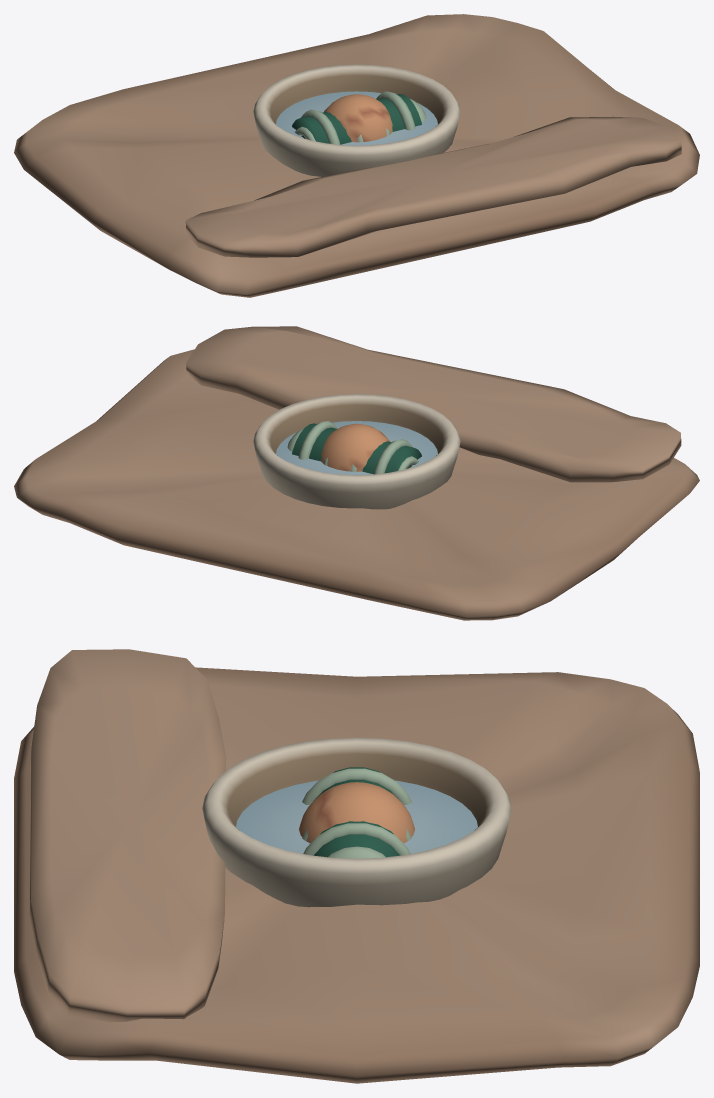
Rendered from care_props.glb.
3 renders of one model, top to bottom at view 1: azimuth 30°, elevation 25°; view 2: azimuth 150°, elevation 25°; view 3: azimuth 270°, elevation 25°, orthographic. The views are drawn at different scales.
Visible parts, largest first — view 1: blanket, bowl, toy_rolling, ball, water; view 2: blanket, bowl, toy_rolling, ball, water; view 3: blanket, bowl, water, toy_rolling, ball.
Boxes of the visible parts, left/top/right/bottom form: blanket: left=14, top=14, right=699, bottom=297; bowl: left=253, top=64, right=460, bottom=176; toy_rolling: left=292, top=91, right=426, bottom=144; ball: left=324, top=94, right=392, bottom=142; water: left=276, top=91, right=437, bottom=145; blanket: left=14, top=326, right=699, bottom=620; bowl: left=253, top=394, right=460, bottom=509; toy_rolling: left=287, top=421, right=421, bottom=474; ball: left=321, top=423, right=390, bottom=471; water: left=276, top=421, right=437, bottom=474; blanket: left=14, top=649, right=699, bottom=1083; bowl: left=202, top=737, right=511, bottom=907; water: left=236, top=780, right=477, bottom=853; toy_rolling: left=302, top=767, right=411, bottom=858; ball: left=299, top=782, right=414, bottom=843.
Bounding box in the file's own units: 0.64 × 0.0921 × 0.4788.
